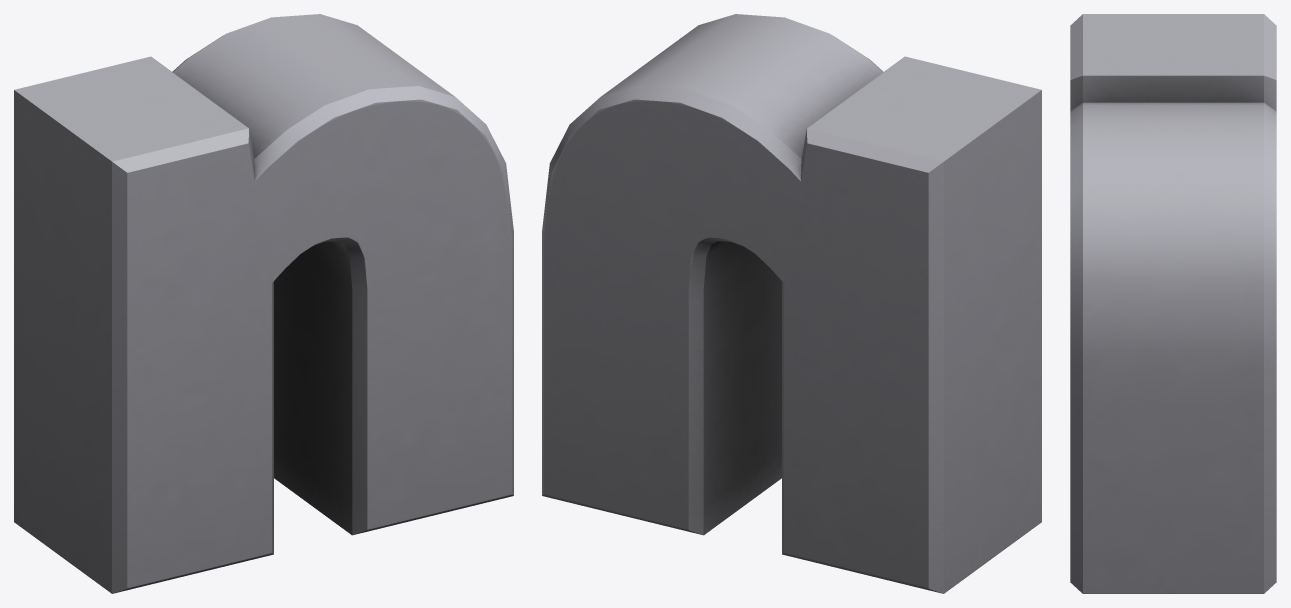
File: n_lowc_static.fbx
The picture shows the model from 3 angles, left to right: view 1: azimuth 30°, elevation 25°; view 2: azimuth 150°, elevation 25°; view 3: azimuth 270°, elevation 25°; orthographic projection. The views are drawn at different scales.
Visible parts, largest first — view 1: n_lowc_static; view 2: n_lowc_static; view 3: n_lowc_static.
Part boxes in pixels (x1,y1,x2,y2): n_lowc_static: (14, 14, 513, 593); n_lowc_static: (542, 14, 1041, 593); n_lowc_static: (1070, 14, 1276, 593).
Bounding box in the file's own units: 68.56 × 72.05 × 33.
